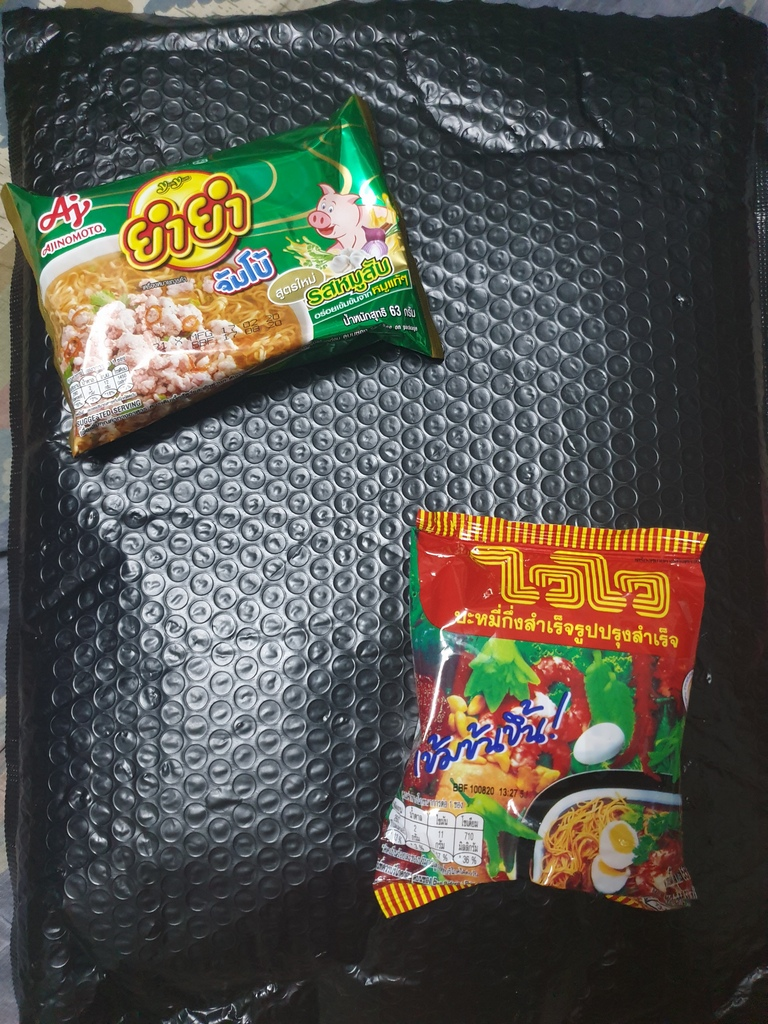waiwai: (386, 505, 703, 914)
yumyum: (5, 105, 453, 421)
